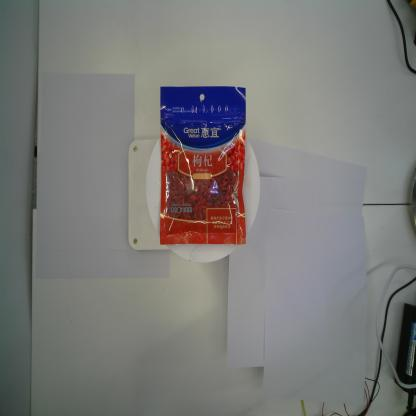Dried Fruit: (160, 86, 246, 245)
